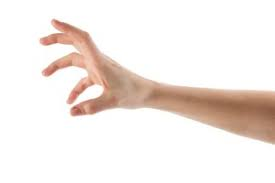hand: (23, 8, 166, 139)
